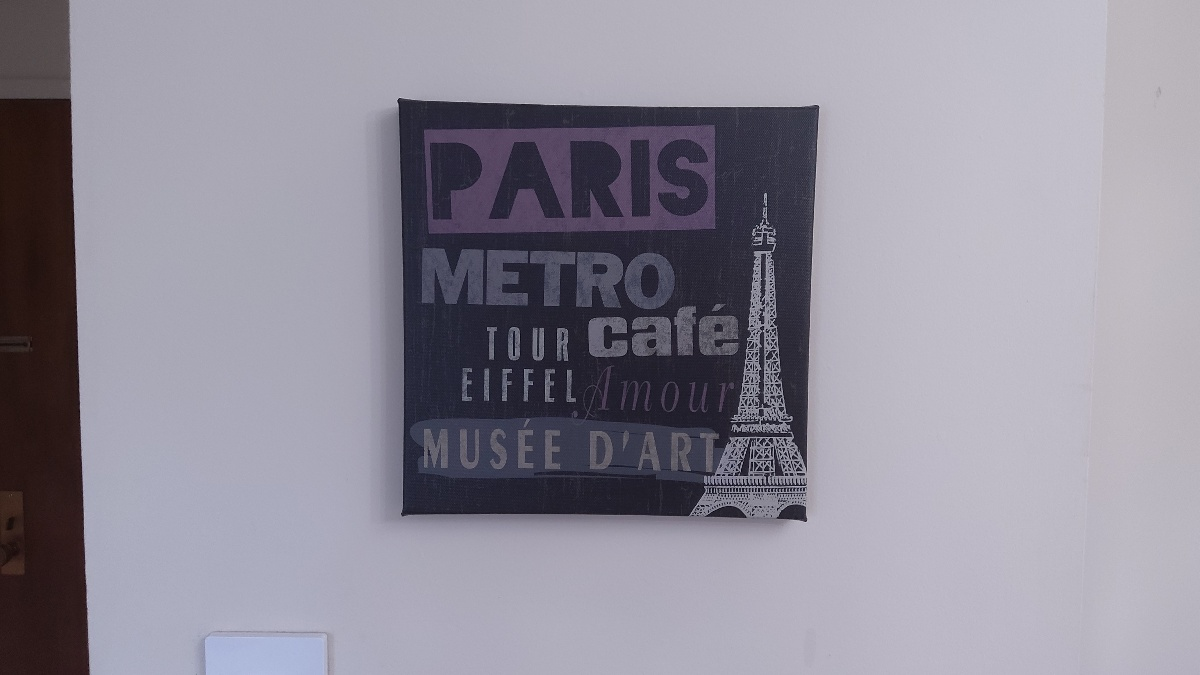poster: (392, 99, 817, 530)
